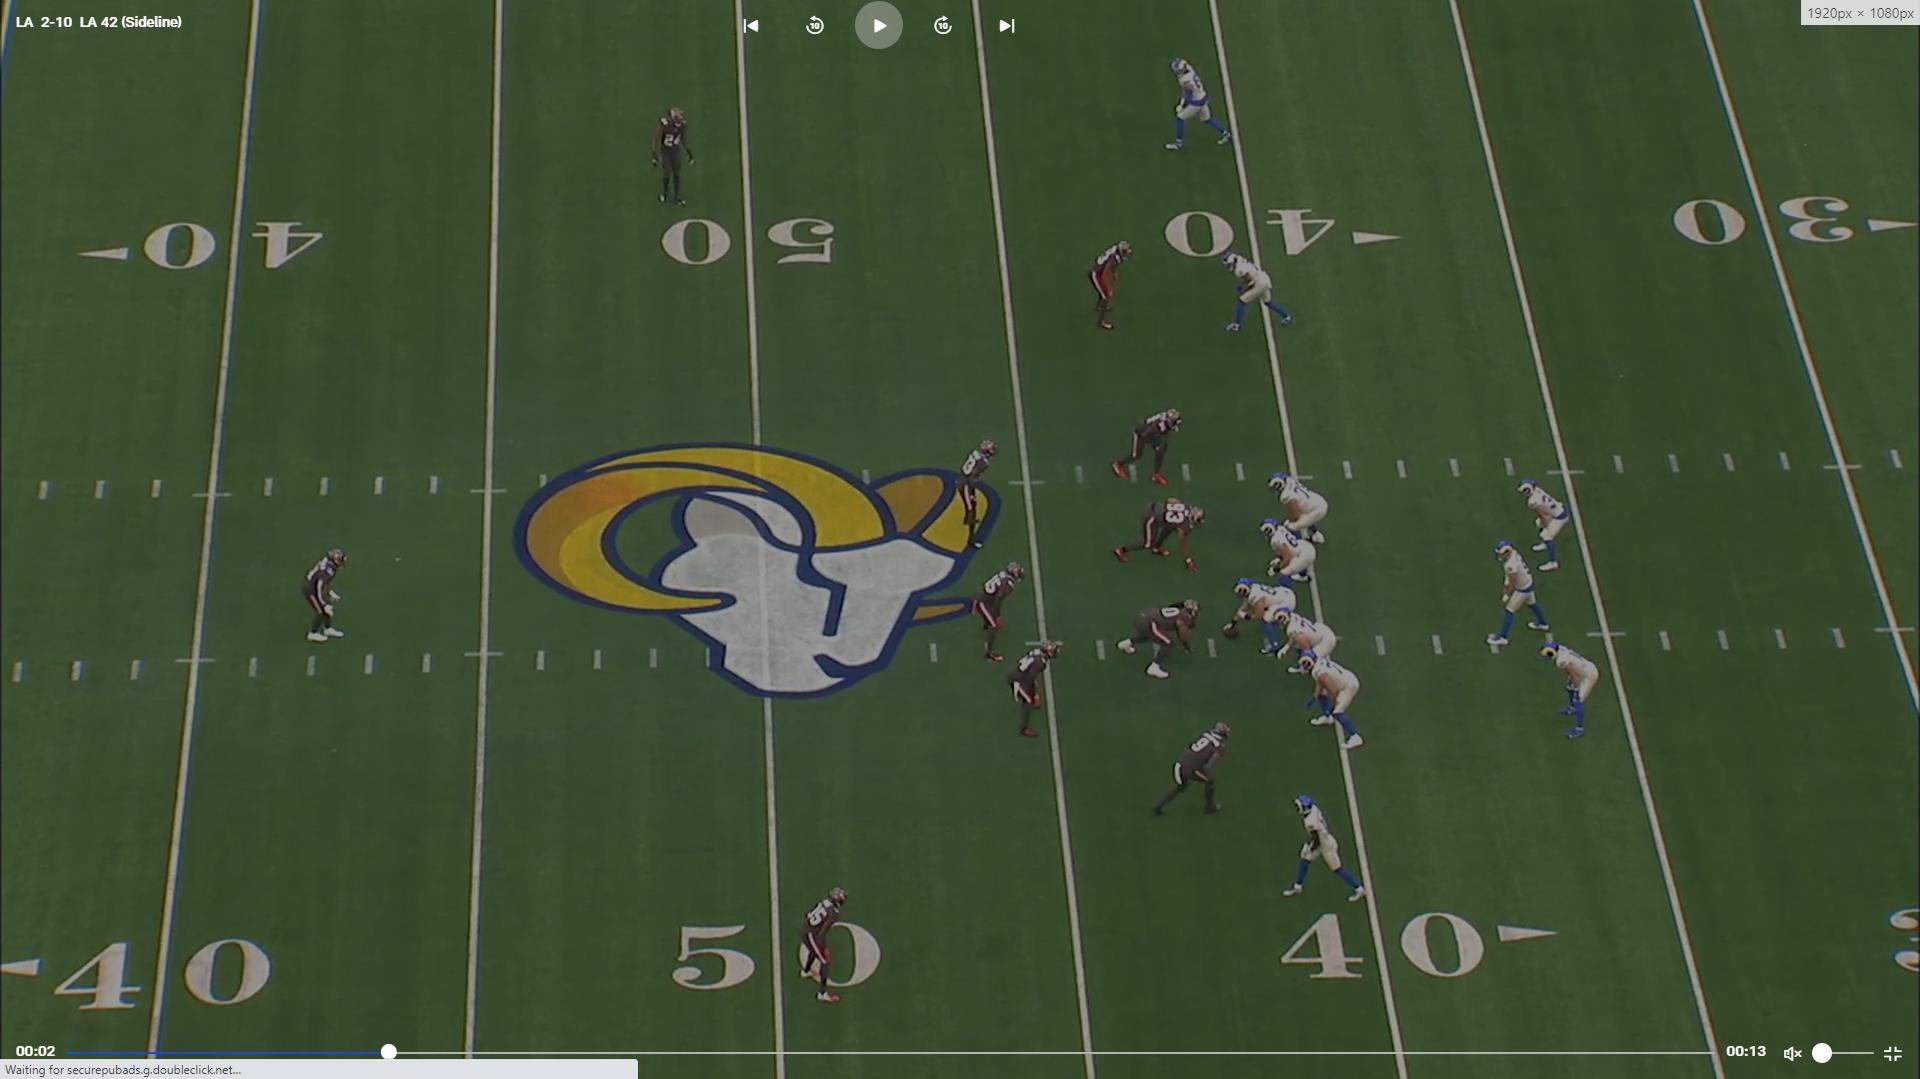player: (1284, 789, 1377, 907), (1147, 720, 1236, 826), (797, 882, 862, 1012), (1486, 534, 1556, 651), (1110, 498, 1213, 576), (1218, 247, 1304, 340), (1159, 54, 1235, 159), (1118, 599, 1212, 683), (1302, 646, 1371, 757), (1541, 636, 1605, 745), (972, 555, 1033, 667), (1109, 405, 1189, 488), (1222, 572, 1303, 653), (1512, 476, 1571, 580), (956, 436, 1011, 546), (1010, 632, 1066, 740), (301, 545, 354, 651), (1081, 239, 1136, 338), (1267, 467, 1332, 546), (1275, 611, 1344, 683), (649, 103, 693, 213), (1260, 517, 1321, 593)
